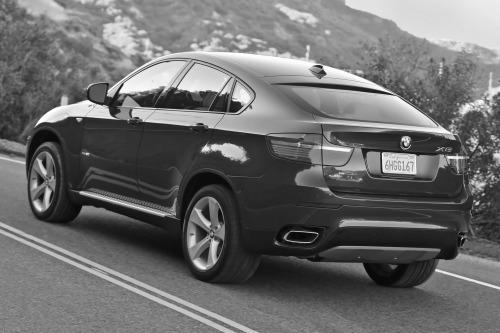car: (26, 53, 474, 293)
